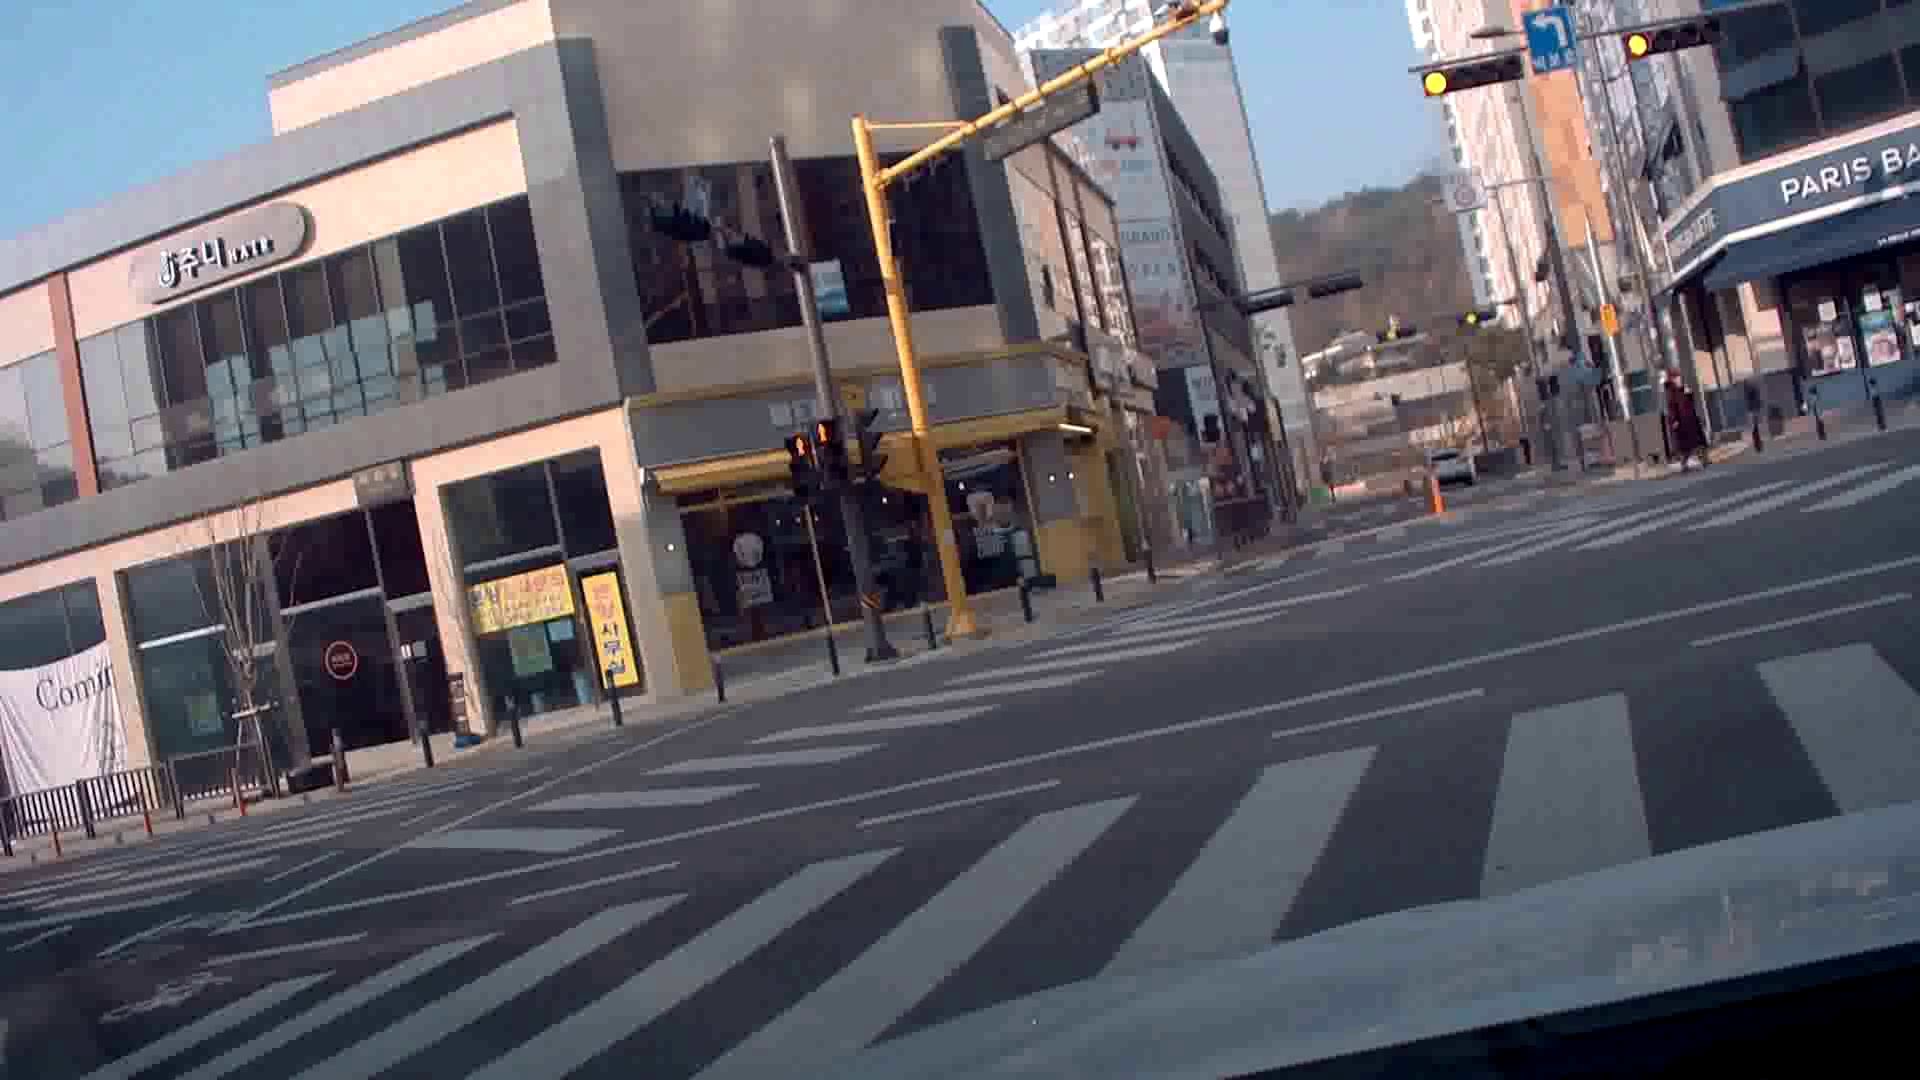trafficLight: (1622, 16, 1726, 65), (1418, 54, 1516, 98), (1378, 324, 1422, 344), (1458, 309, 1501, 328)
trafficSignRTG: (1522, 3, 1581, 74)
